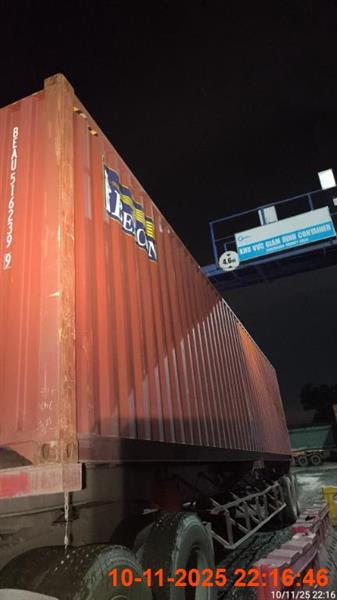dent: (0, 73, 302, 599)
